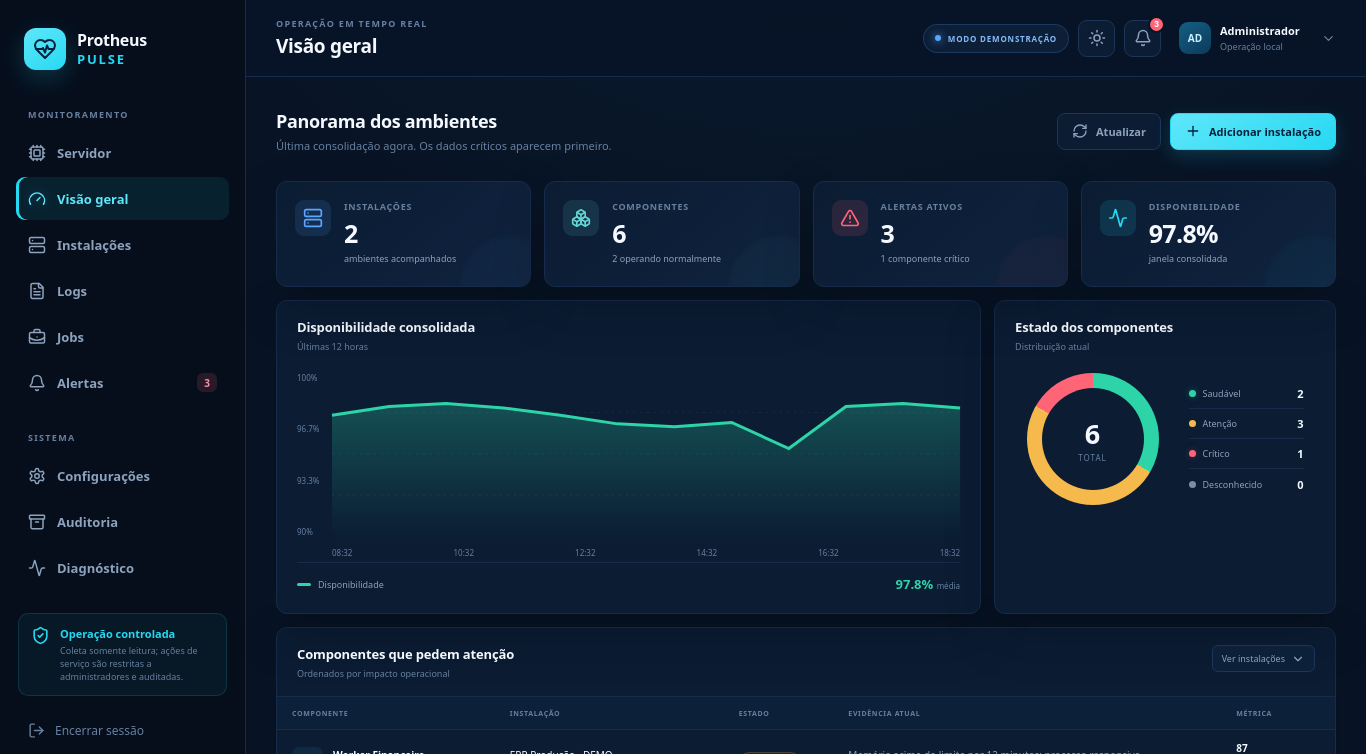
Scenario: App › envia o cadastro manual da instalação e seus componentes
Check: the heading "Panorama dos ambientes" is shown, box [276,109,497,133]
Click the button "Adicionar instalação".
click(1253, 131)  # box [1170,112,1336,150]
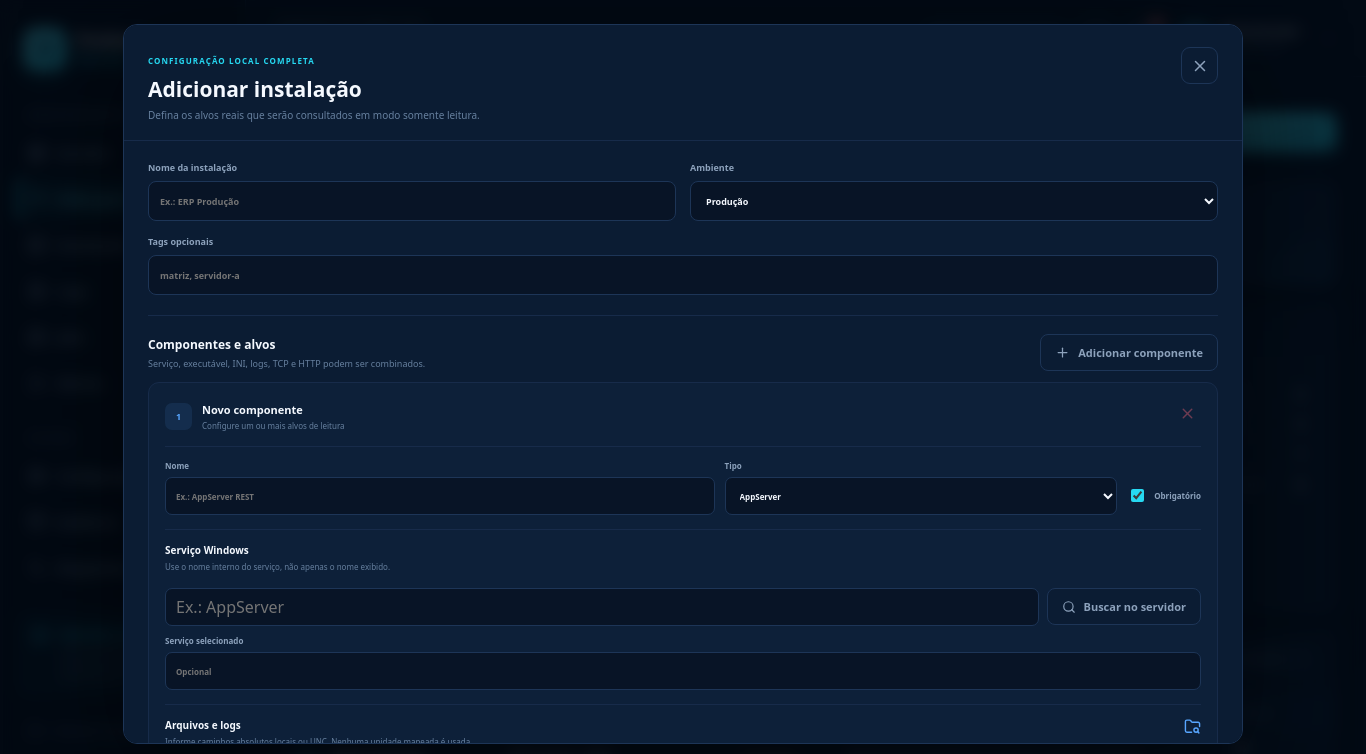
Type "ERP Piloto" into the field labelled "Nome da instalação".
click(412, 201); type("ERP Piloto")  # box [148,181,676,221]
Type "piloto, servidor-a" into the field labelled "Tags opcionais".
click(683, 275); type("piloto, servidor-a")  # box [148,255,1218,295]
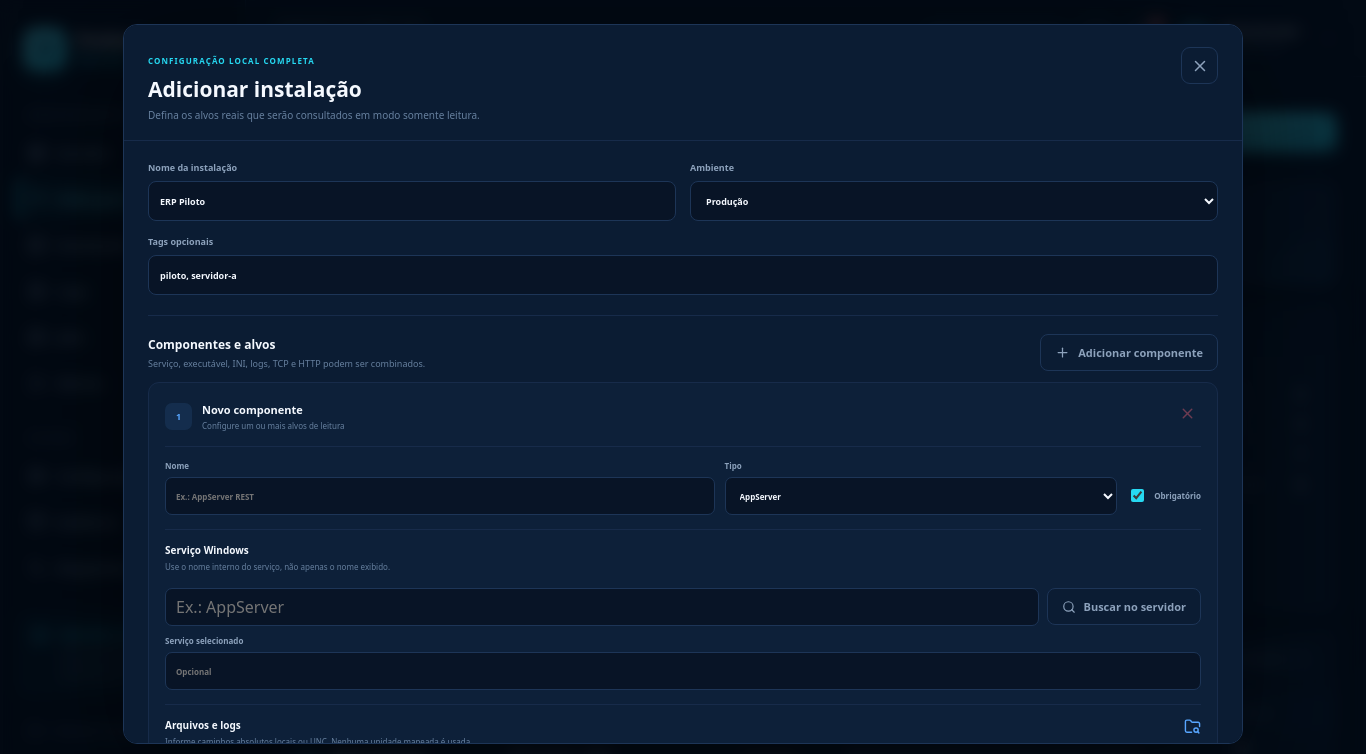
Type "AppServer REST" into the field named "Nome do componente 1".
click(440, 496); type("AppServer REST")  # box [165,477,715,515]
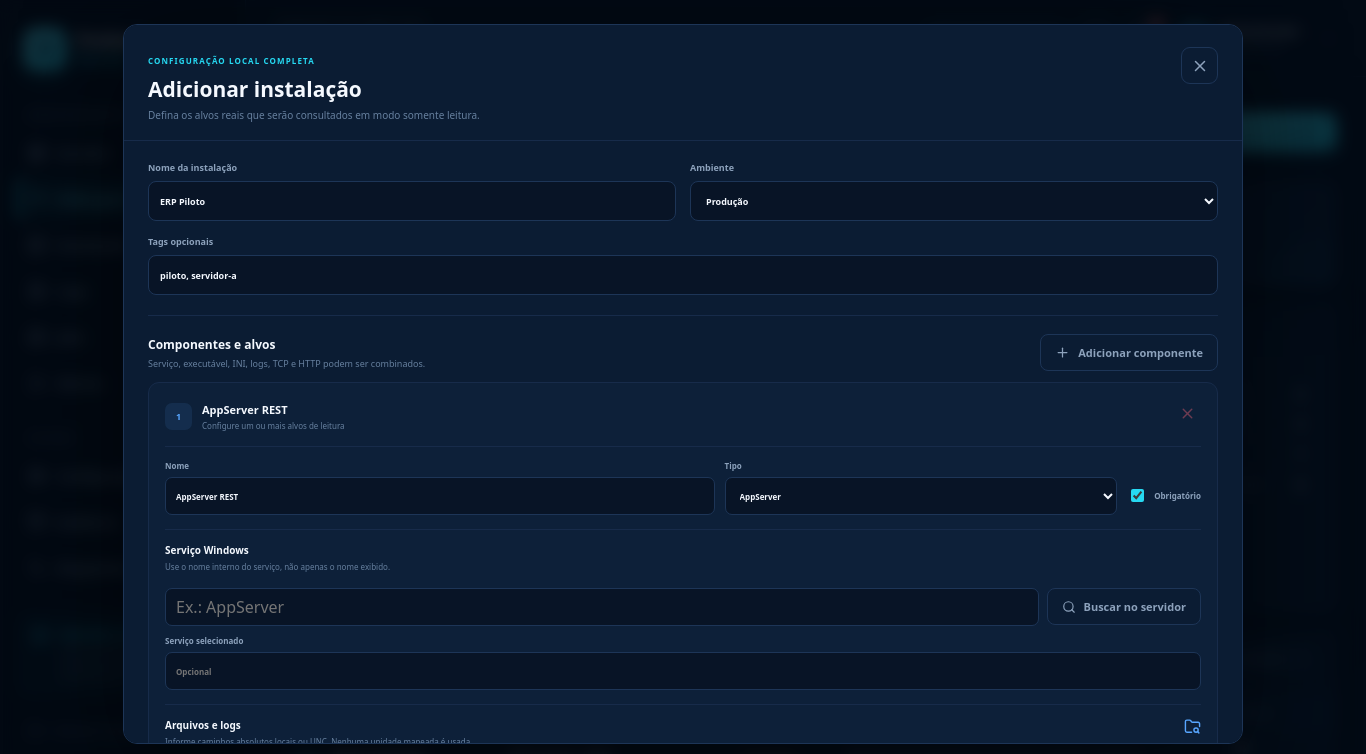
Select "REST / WebApp" in the dropdown named "Tipo do componente 1" at (921, 496), box [725,477,1117,515]
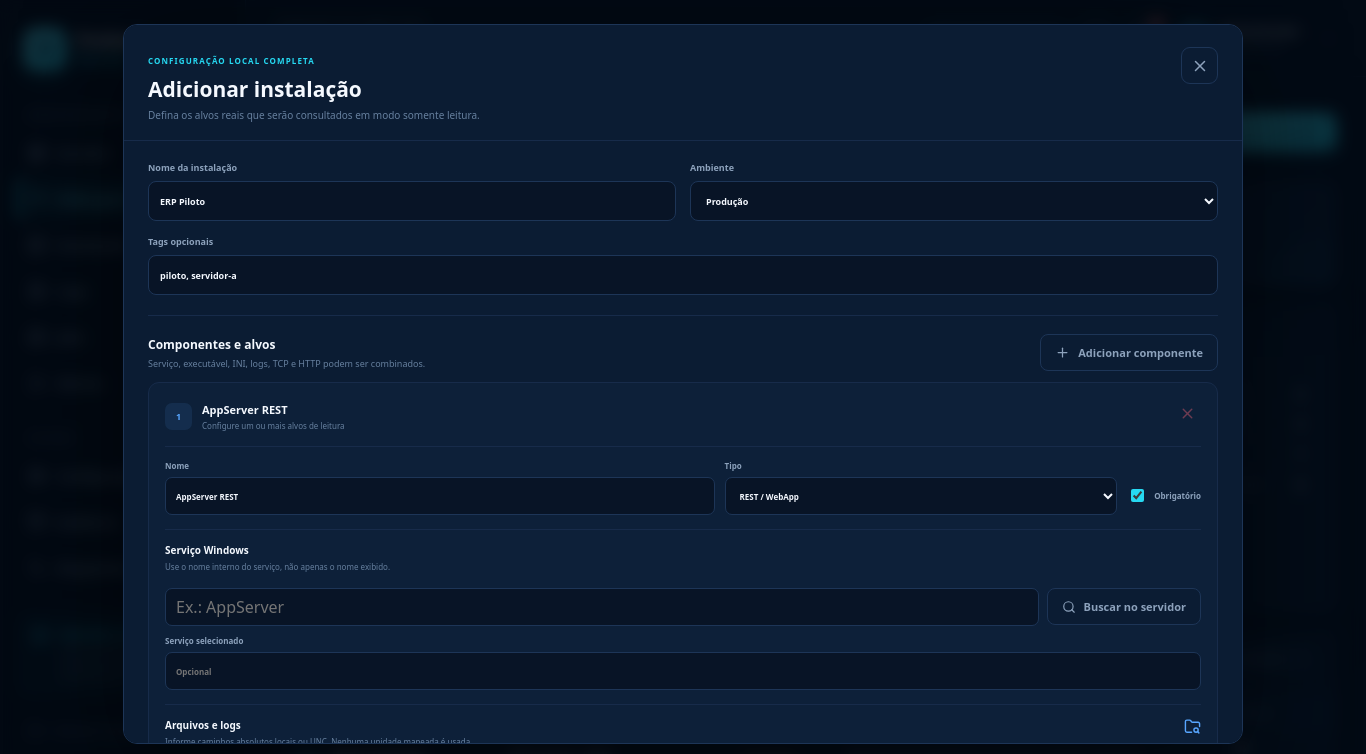
Type "PulseAppServer" into the field named "Nome do serviço Windows 1".
click(683, 671); type("PulseAppServer")  # box [165,652,1201,690]
(page scrolled)
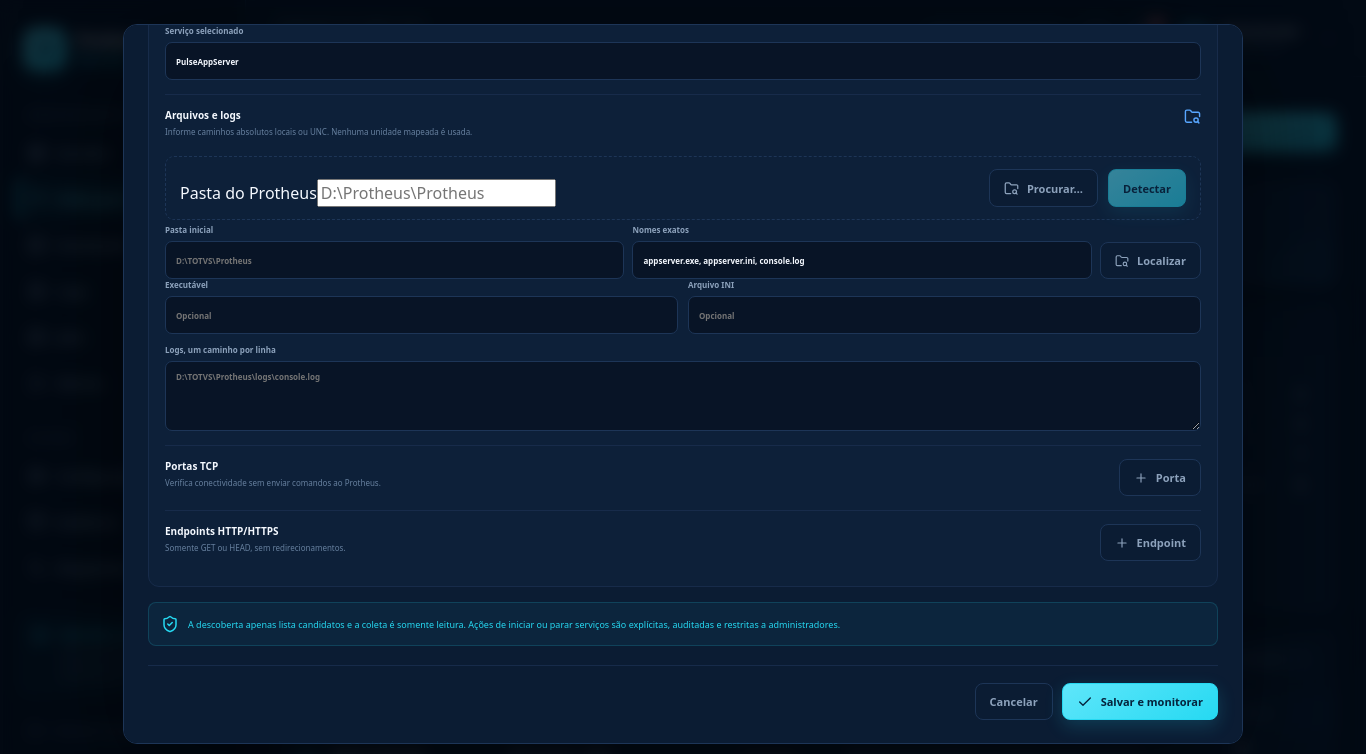
Click the button "Salvar e monitorar".
click(1140, 702)  # box [1062,683,1218,720]
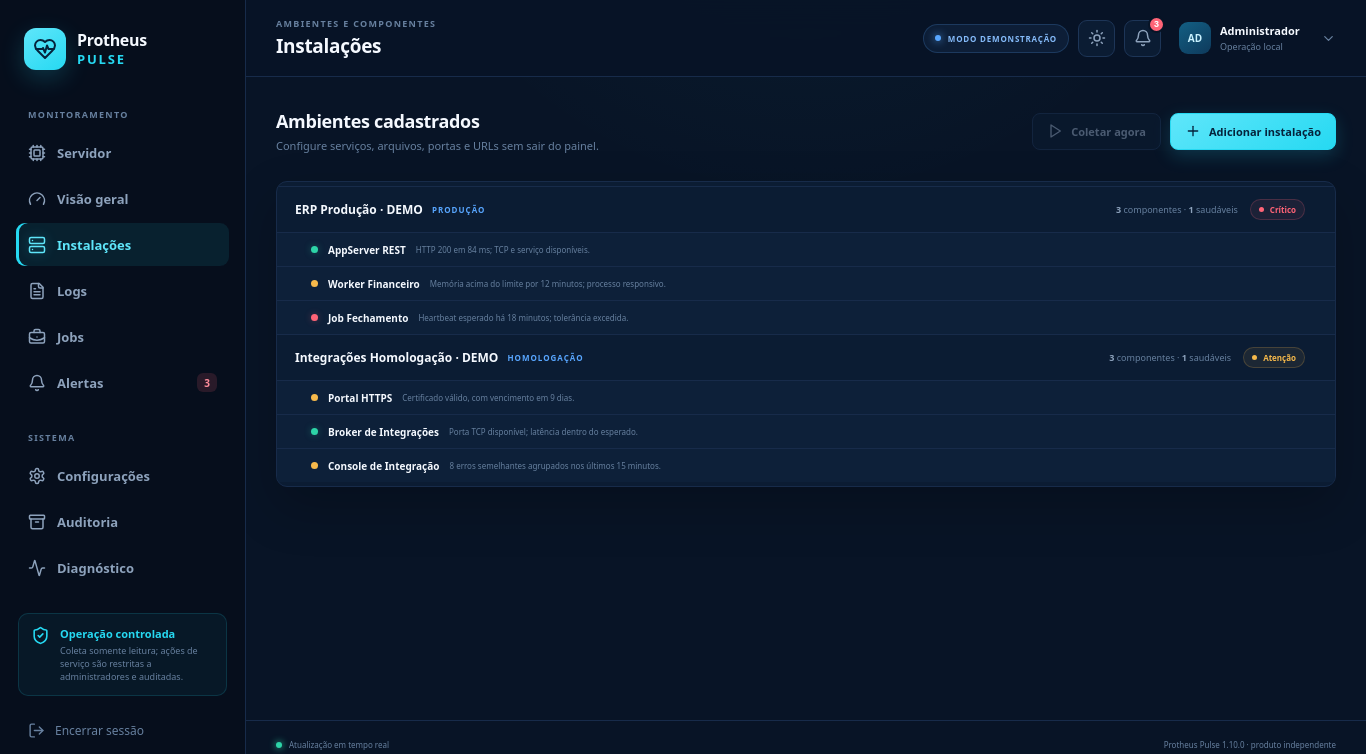
Check: the heading "Ambientes cadastrados" is shown, box [276,109,480,133]
Check: the dialog is gone
